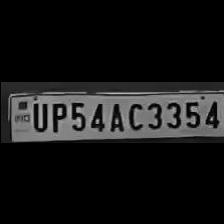3: (144, 98, 162, 130), (164, 98, 181, 128)
4: (86, 97, 106, 130), (201, 96, 221, 128)
5: (66, 97, 86, 131), (182, 97, 200, 127)
A: (105, 98, 124, 130)
C: (124, 98, 144, 130)
P: (48, 98, 66, 132)
U: (28, 99, 46, 131)
